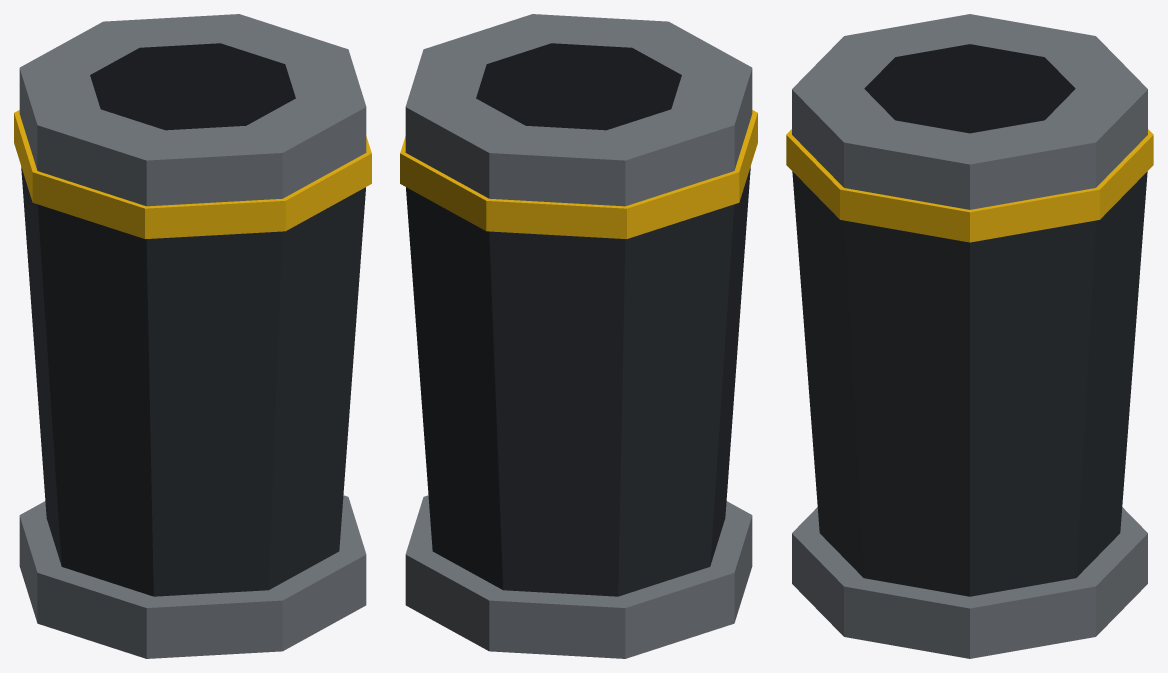
The model's file is PROP_BIN_01.glb.
The picture shows the model from 3 angles, left to right: view 1: azimuth 30°, elevation 25°; view 2: azimuth 150°, elevation 25°; view 3: azimuth 270°, elevation 25°; orthographic projection.
Parts seen in each view (by area): view 1: CIVRUM_GAME_PROP_BIN_01; view 2: CIVRUM_GAME_PROP_BIN_01; view 3: CIVRUM_GAME_PROP_BIN_01.
Part boxes in pixels (box(x1,y1,x2,y2)): CIVRUM_GAME_PROP_BIN_01: box(14, 14, 371, 658); CIVRUM_GAME_PROP_BIN_01: box(400, 14, 757, 658); CIVRUM_GAME_PROP_BIN_01: box(786, 14, 1153, 658).
Bounding box in the file's own units: 0.66 × 0.981 × 0.66.
